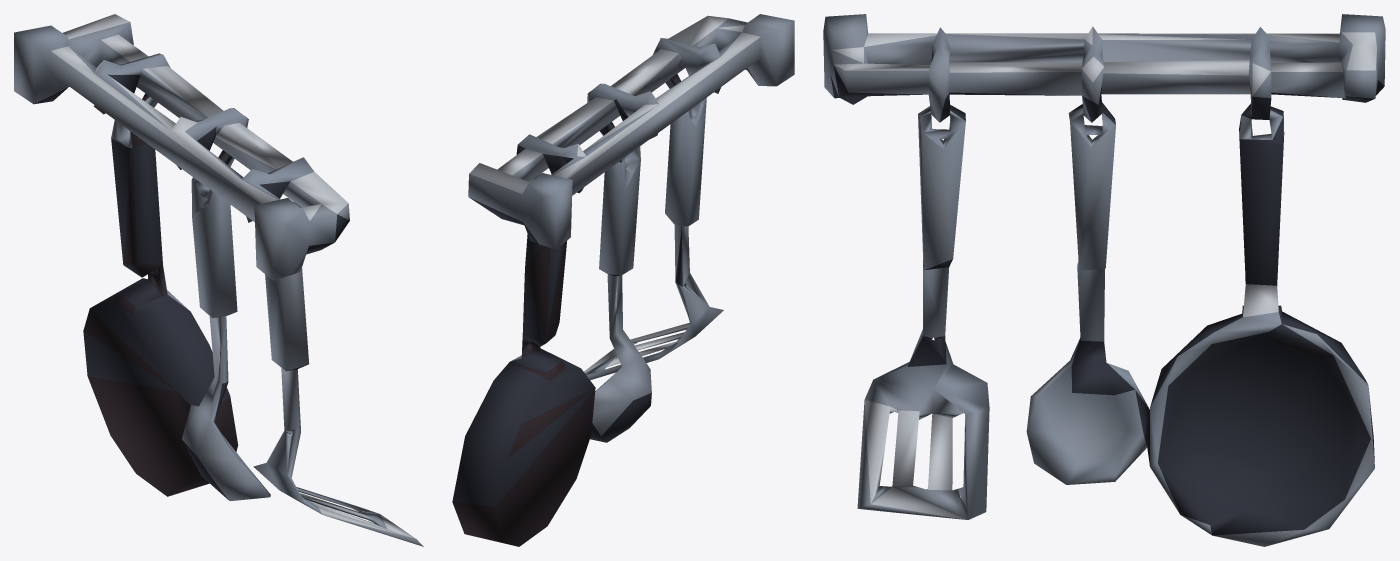
The model's file is SM_utensil_rack.glb.
3 renders of one model, left to right at view 1: azimuth 30°, elevation 25°; view 2: azimuth 150°, elevation 25°; view 3: azimuth 270°, elevation 25°, orthographic. The views are drawn at different scales.
Visible parts, largest first — view 1: SM_utensil_rack; view 2: SM_utensil_rack; view 3: SM_utensil_rack.
Part boxes in pixels (x1,y1,x2,y2): SM_utensil_rack: [14, 14, 423, 546]; SM_utensil_rack: [452, 14, 794, 546]; SM_utensil_rack: [823, 14, 1385, 546].
Size of the model in its own units: 0.2493 by 0.6 by 0.6486.
Materials: 1 (1 with a texture image).
